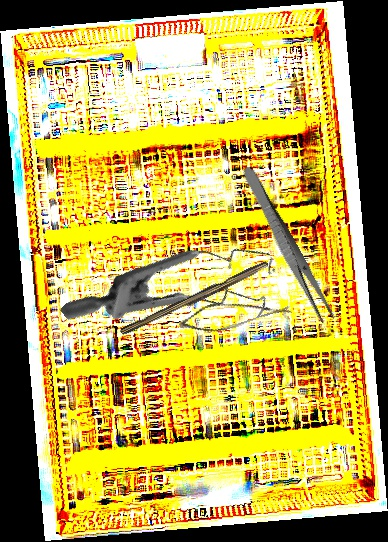Dressing Forceps: (236, 164, 338, 326)
Micro Scissor: (176, 279, 294, 349)
Scalpel Handle: (119, 258, 271, 340)
Speculum: (59, 181, 296, 413)
